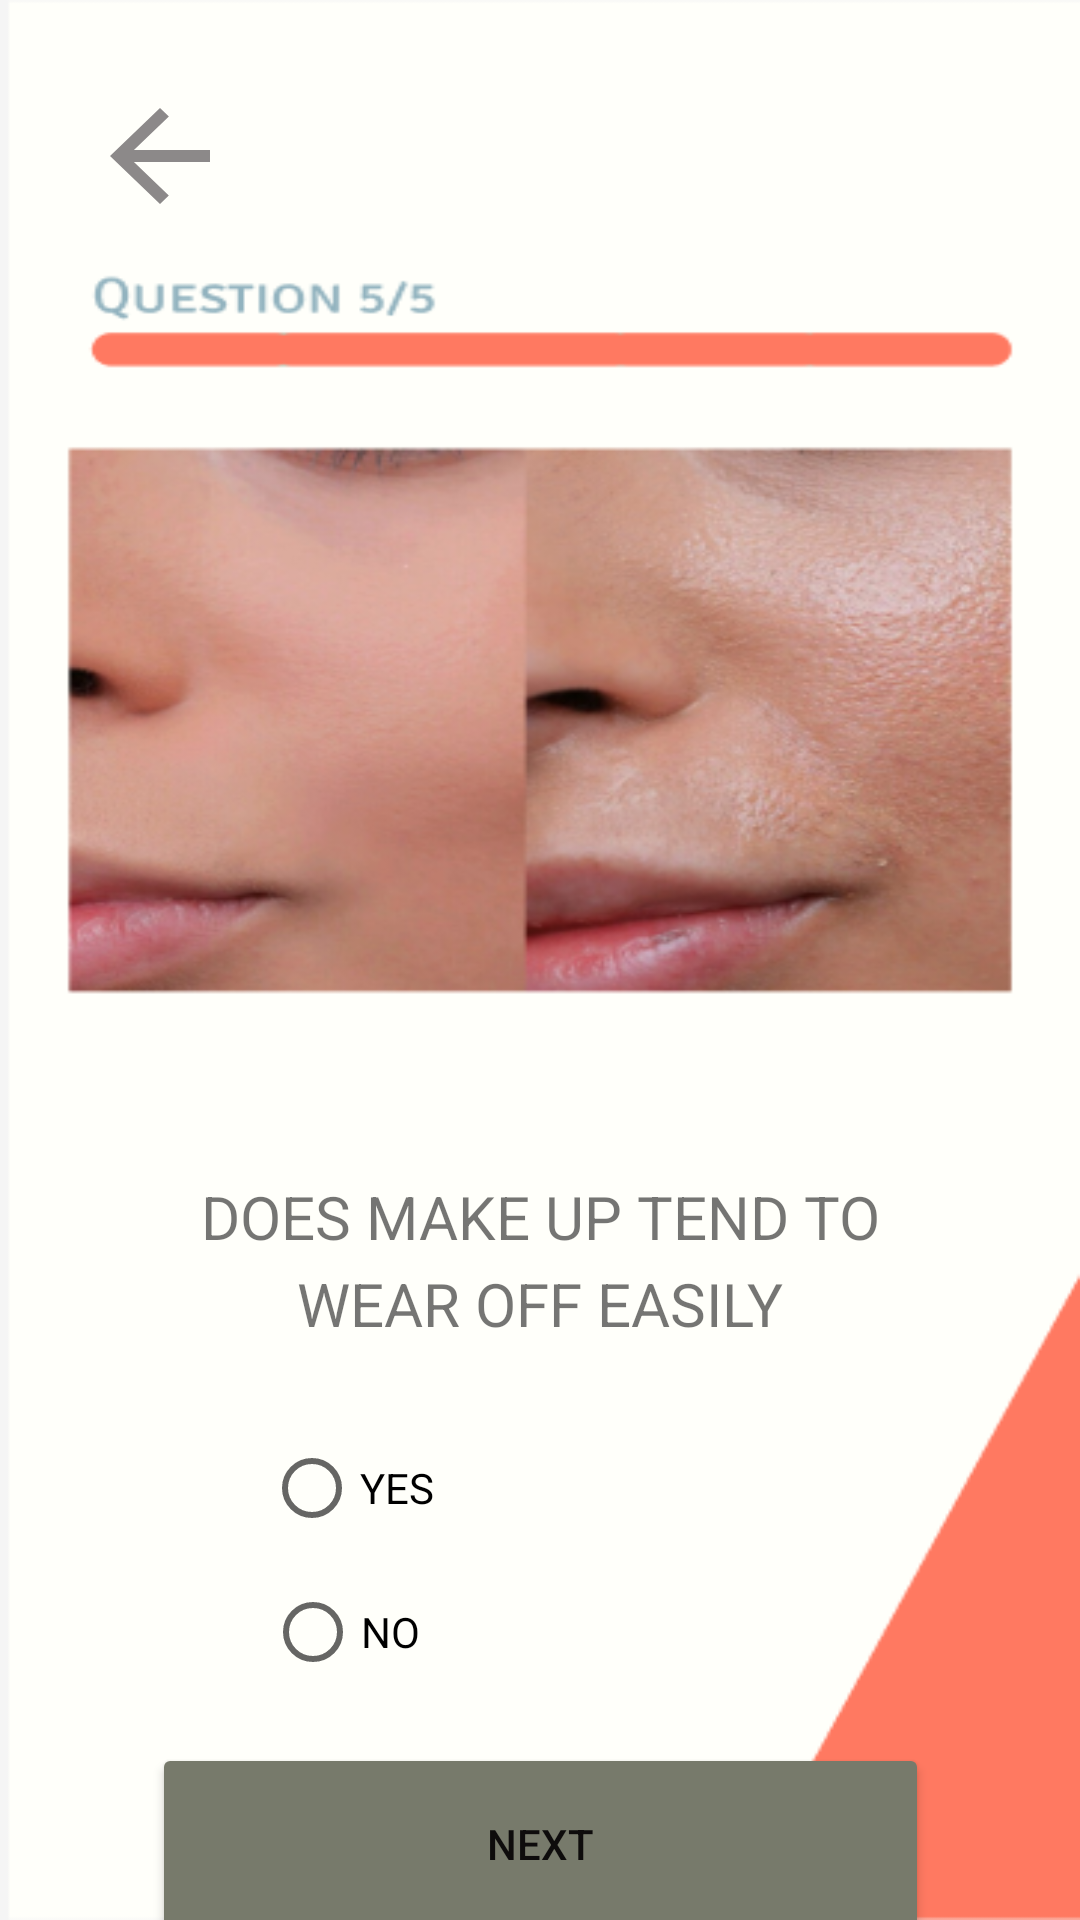

Where icons sit on this 1080 × 1920 app screen, as (x1, y1, x2, y2):
arrow back: (110, 108, 210, 204)
